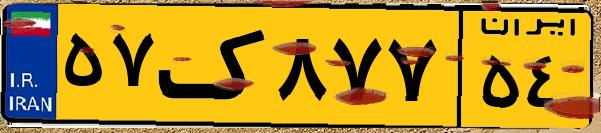4: (525, 38, 570, 115)
5: (57, 26, 110, 100), (475, 38, 525, 113)
7: (385, 28, 445, 110), (330, 28, 385, 110), (110, 28, 158, 98)
8: (270, 28, 330, 110)
ک: (158, 12, 270, 120)
